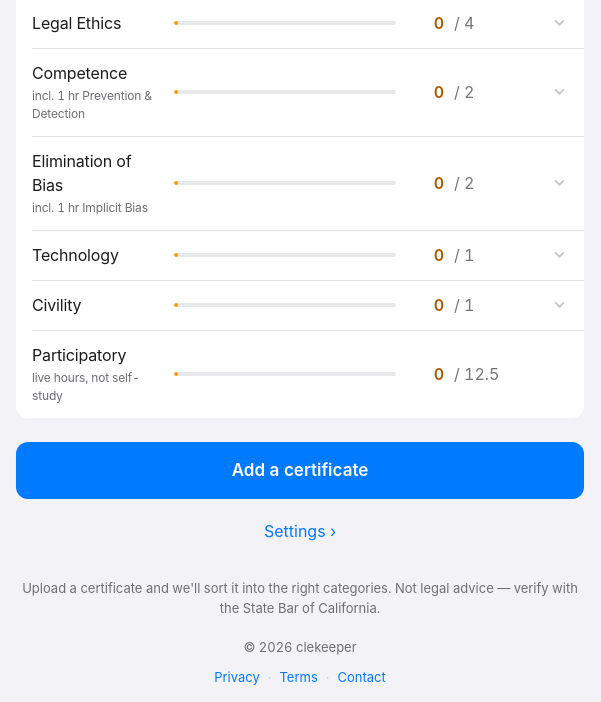
Test: Settings: a failed sign-out surfaces an error instead of failing silently
The width and height of the screenshot is (601, 702).
(page scrolled)
Click the button "Settings ›" at (300, 531), box [258, 507, 342, 555]
(page scrolled)
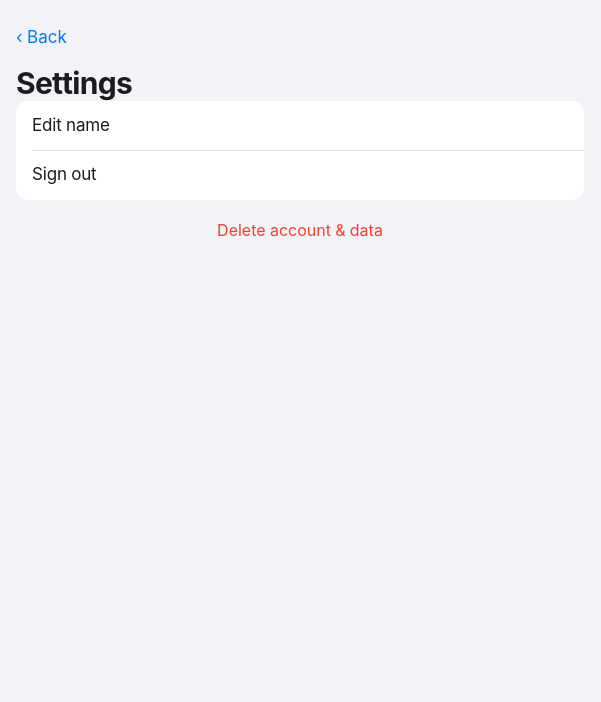
Click the text "Sign out" at (64, 174), box [32, 164, 96, 184]
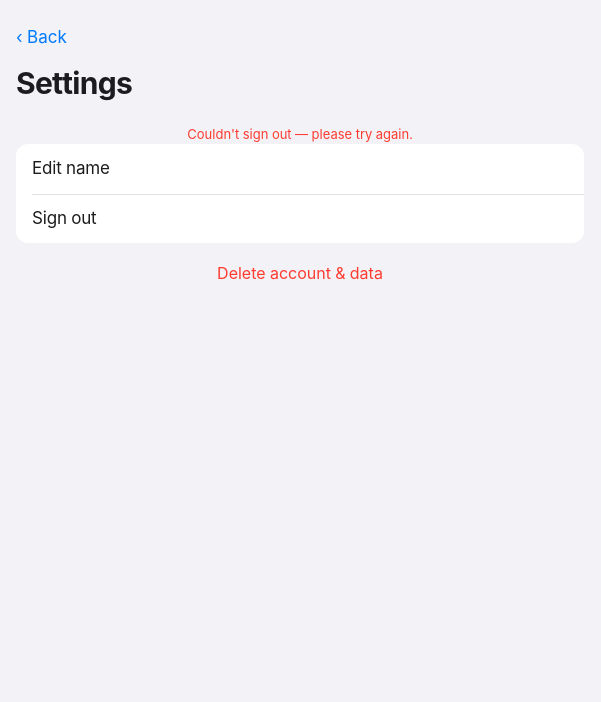
Check: the text "Couldn't sign out — please try again." is shown, box [187, 126, 413, 142]
